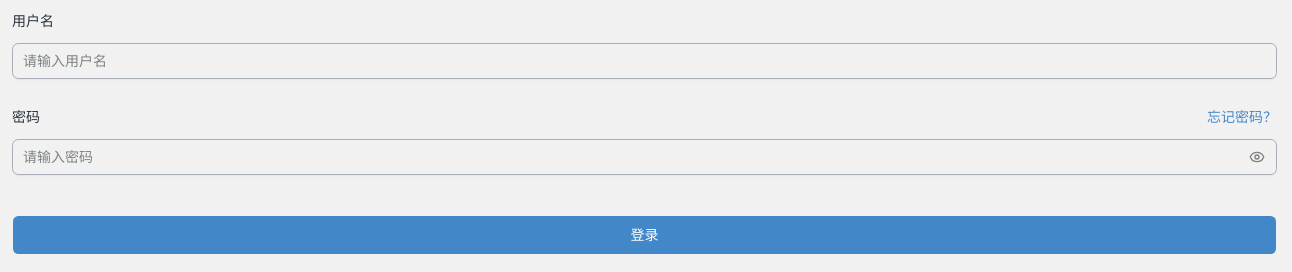
Test: LoginForm › handles invalid credentials without field-level server errors
This screenshot has width=1292, height=272.
Step 1. Type "eleno" into the field labelled "用户名" → (644, 61), box x1=12 y1=43 x2=1277 y2=79
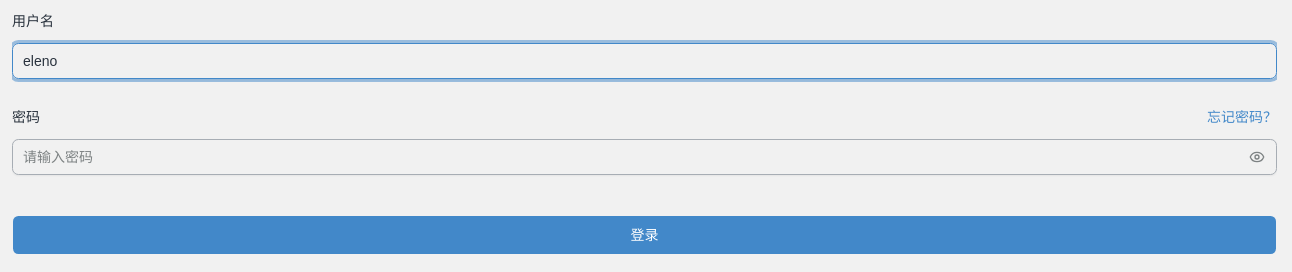
Step 2. Type "secret" into the password field labelled "密码" → (644, 157), box x1=12 y1=139 x2=1277 y2=175
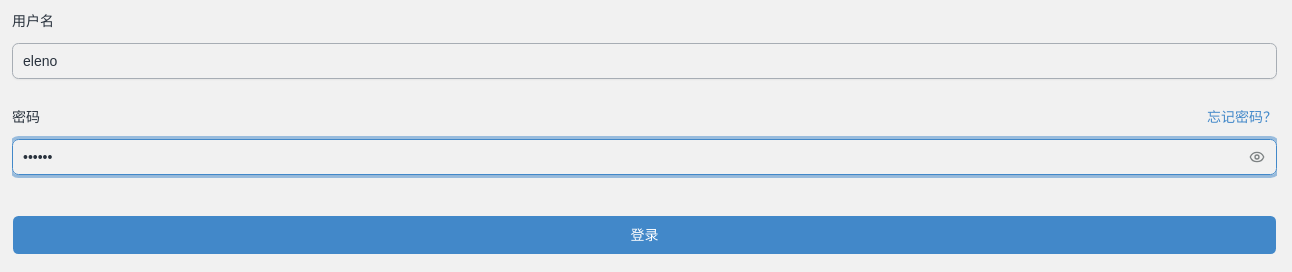
Step 3. Click the button "登录" → (644, 235), box x1=12 y1=215 x2=1277 y2=255
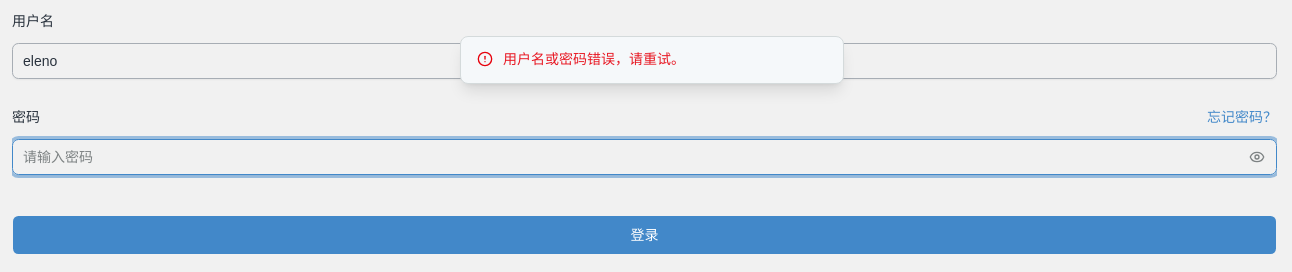
Expected: the message reads "用户名或密码错误，请重试。", x1=503 y1=51 x2=685 y2=67
Expected: the password field labelled "密码" is empty, x1=12 y1=139 x2=1277 y2=175
